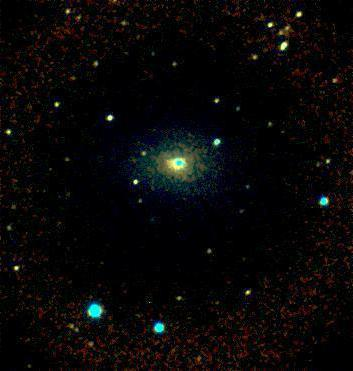star: (203, 287, 233, 317)
